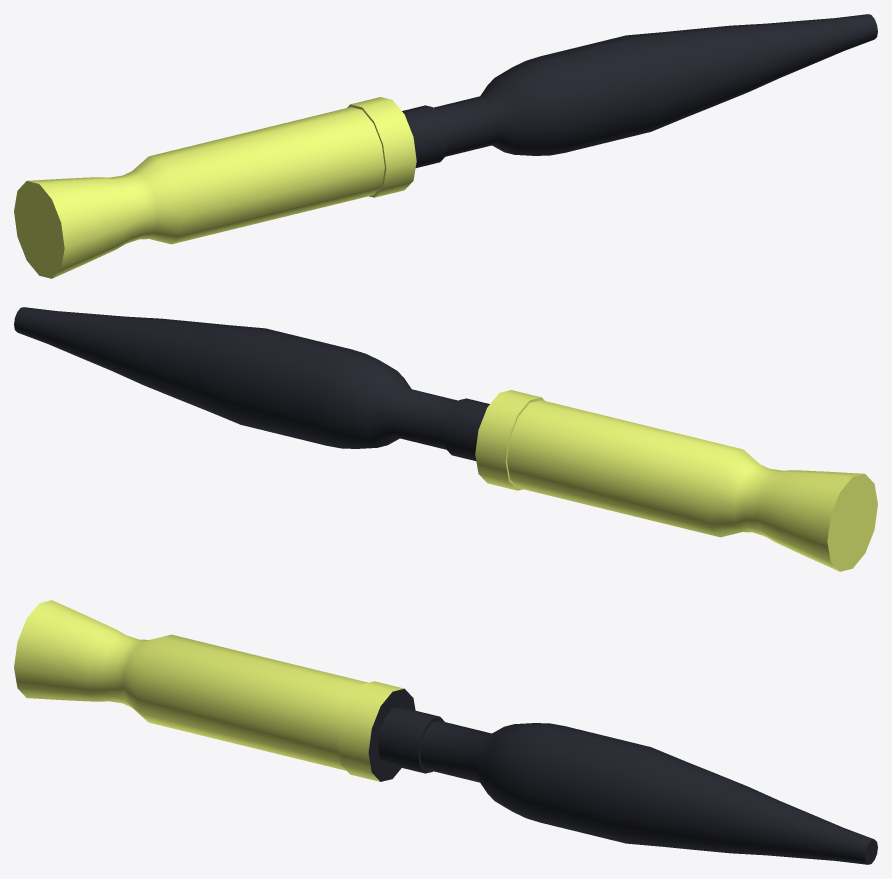
The model's file is rocket.glb.
The picture shows the model from 3 angles, top to bottom: view 1: azimuth 30°, elevation 25°; view 2: azimuth 150°, elevation 25°; view 3: azimuth 330°, elevation 25°; orthographic projection.
Parts seen in each view (by area): view 1: Cylinder.016; view 2: Cylinder.016; view 3: Cylinder.016.
Part boxes in pixels (x1,y1,x2,y2): Cylinder.016: (14, 14, 877, 278); Cylinder.016: (14, 307, 877, 571); Cylinder.016: (14, 600, 877, 864).
Size of the model in its own units: 30.95 by 3.26 by 3.26.
Materials: 2 (2 with a texture image).
